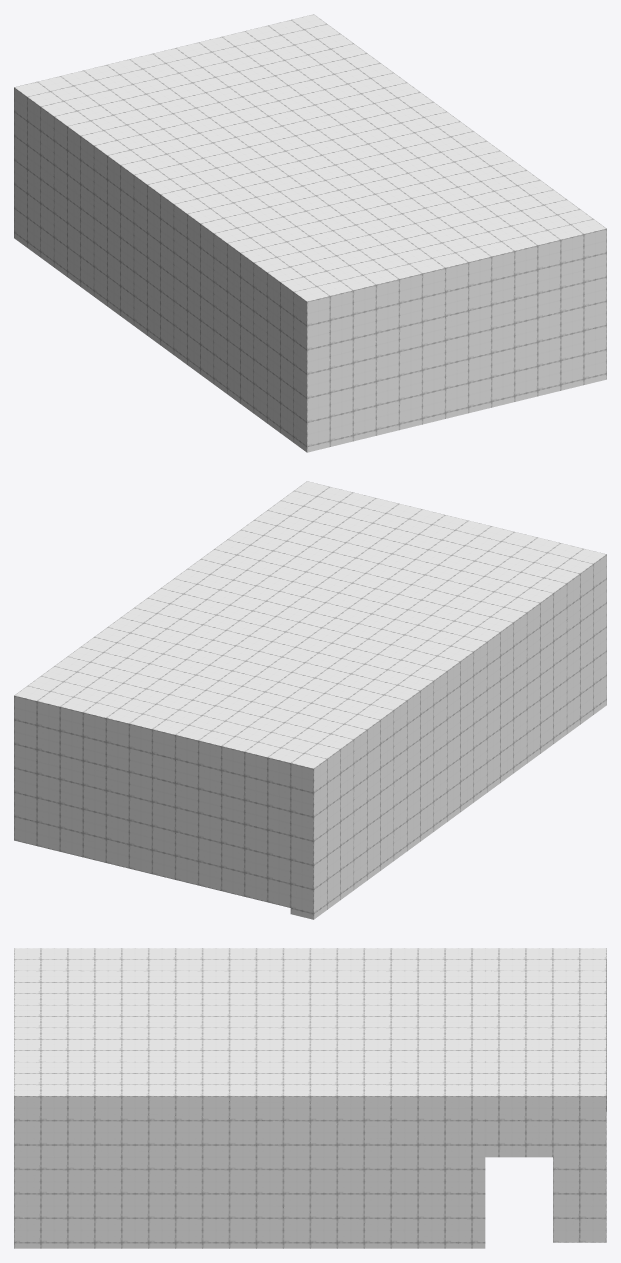
Rendered from Base Station.fbx.
3 renders of one model, top to bottom at view 1: azimuth 30°, elevation 25°; view 2: azimuth 150°, elevation 25°; view 3: azimuth 270°, elevation 25°, orthographic.
Visible parts, largest first — view 1: Base_Station; view 2: Base_Station; view 3: Base_Station.
Part boxes in pixels (x1,y1,x2,y2): Base_Station: (14,14,606,452); Base_Station: (14,481,606,919); Base_Station: (14,948,606,1248).
Size of the model in its own units: 1300 by 625 by 2201.
Materials: 1 (1 with a texture image).
